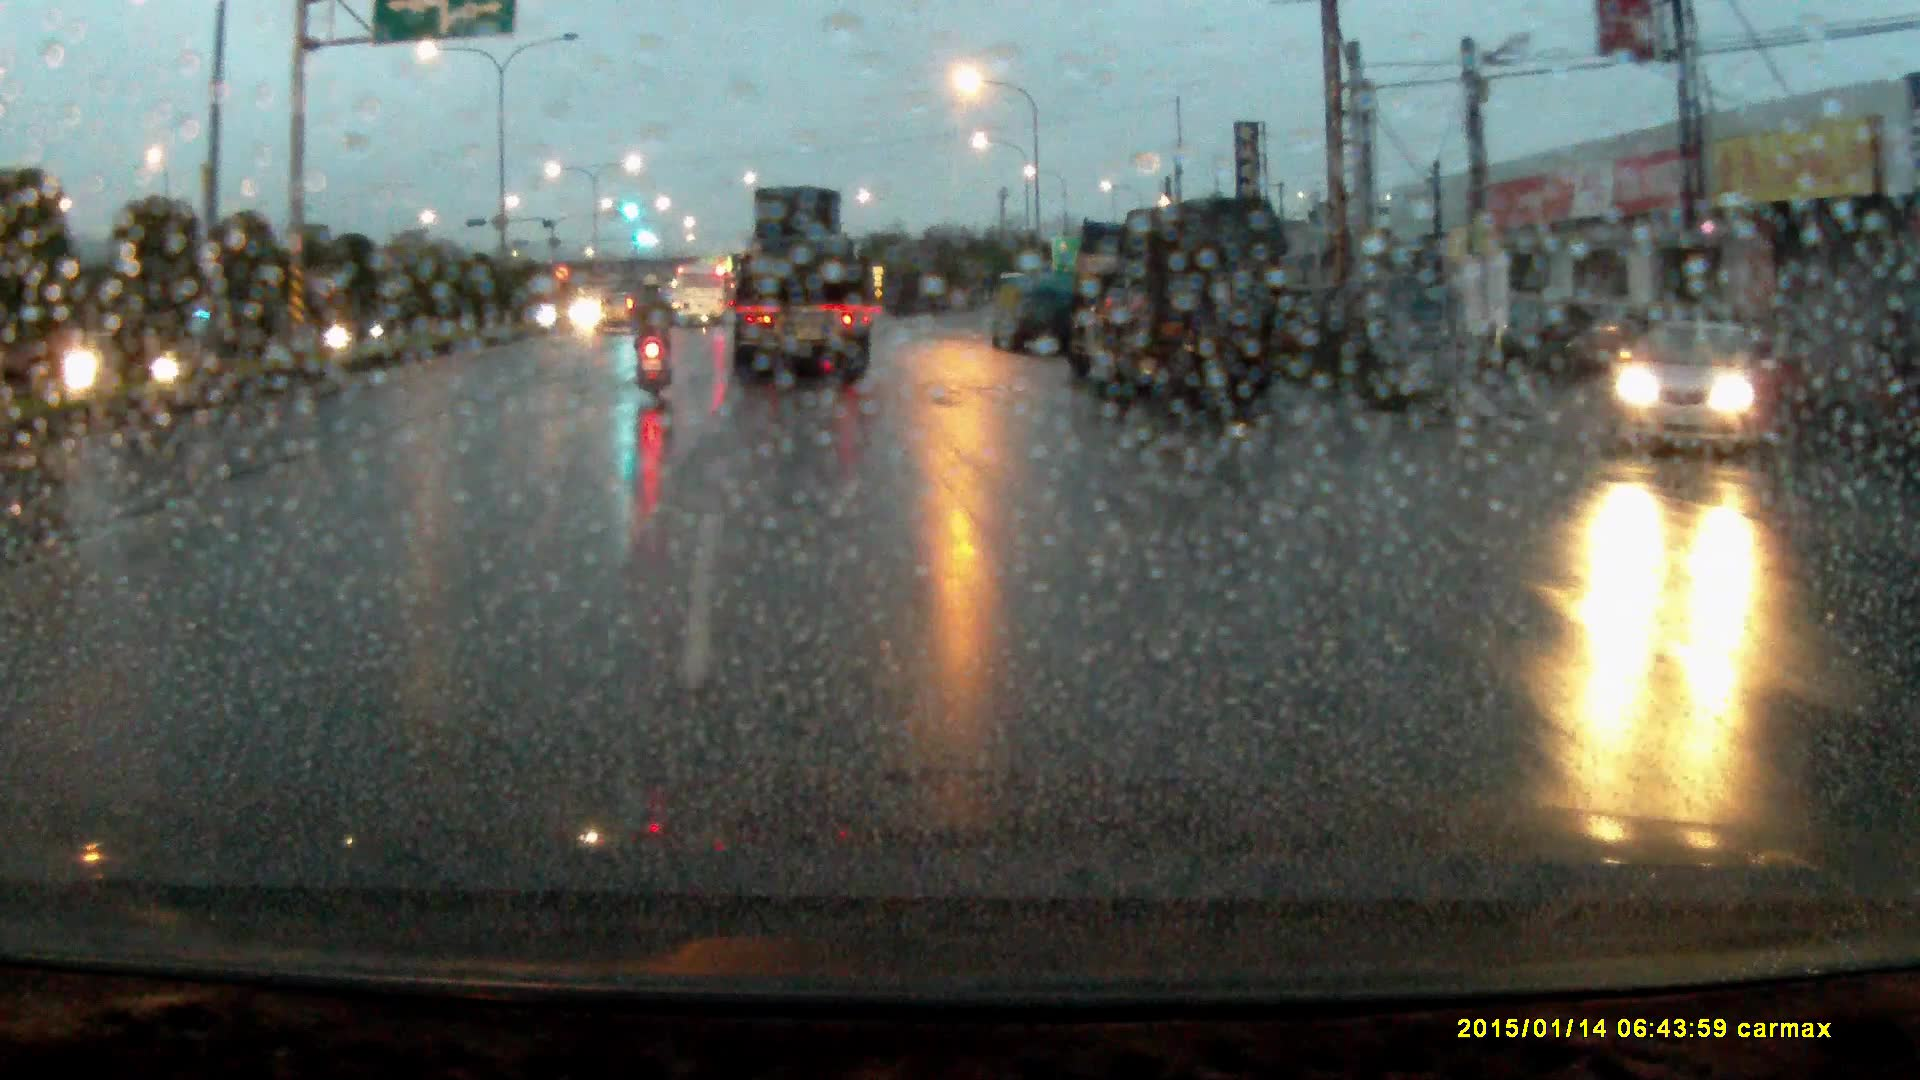rider: (631, 270, 687, 407)
vehicle: (1070, 194, 1307, 417), (737, 185, 873, 379), (1609, 320, 1792, 459), (993, 270, 1083, 352), (678, 264, 728, 328), (595, 286, 647, 335)
